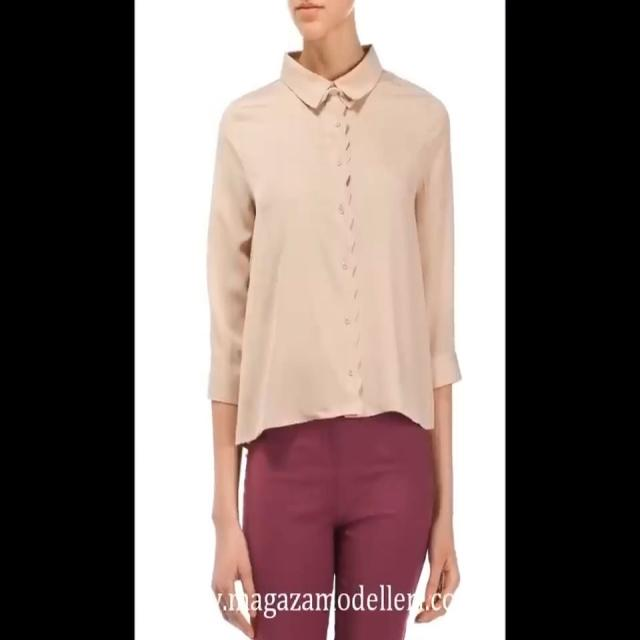Shirt: (205, 41, 463, 448)
